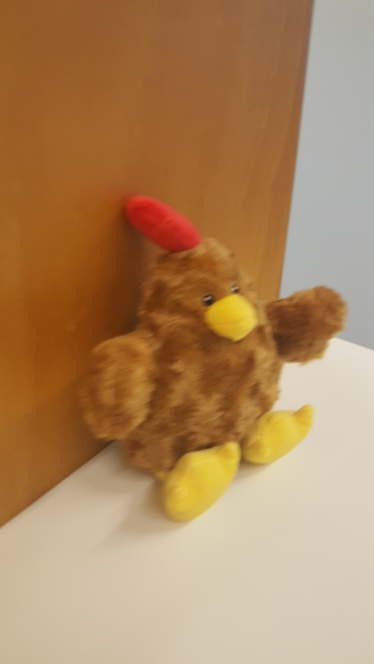chicken_front: (78, 191, 348, 523)
